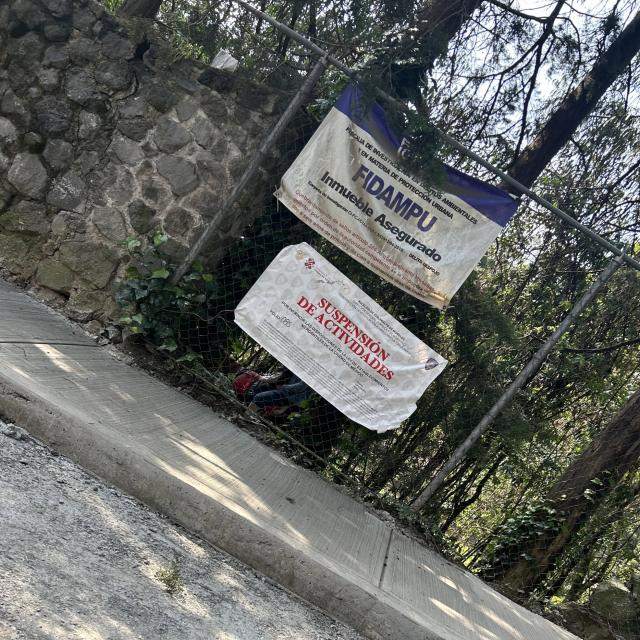stamps: (278, 82, 520, 310)
